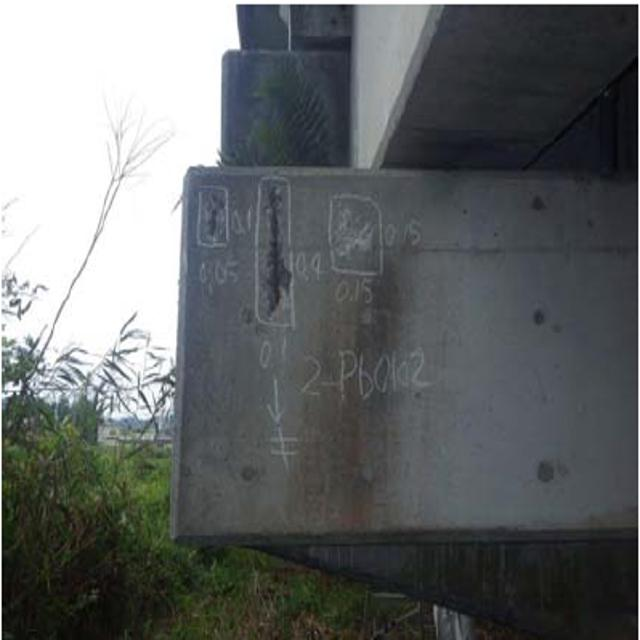spalling: (260, 183, 297, 337), (330, 194, 394, 280), (197, 186, 236, 260)
